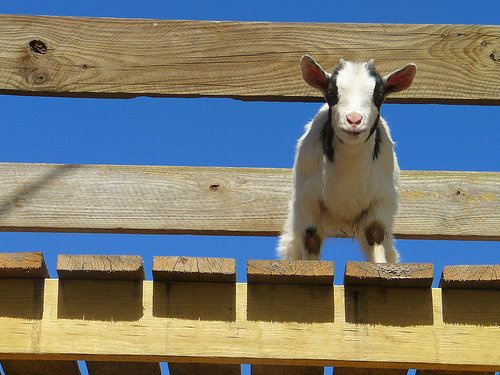goat: (277, 53, 418, 264)
